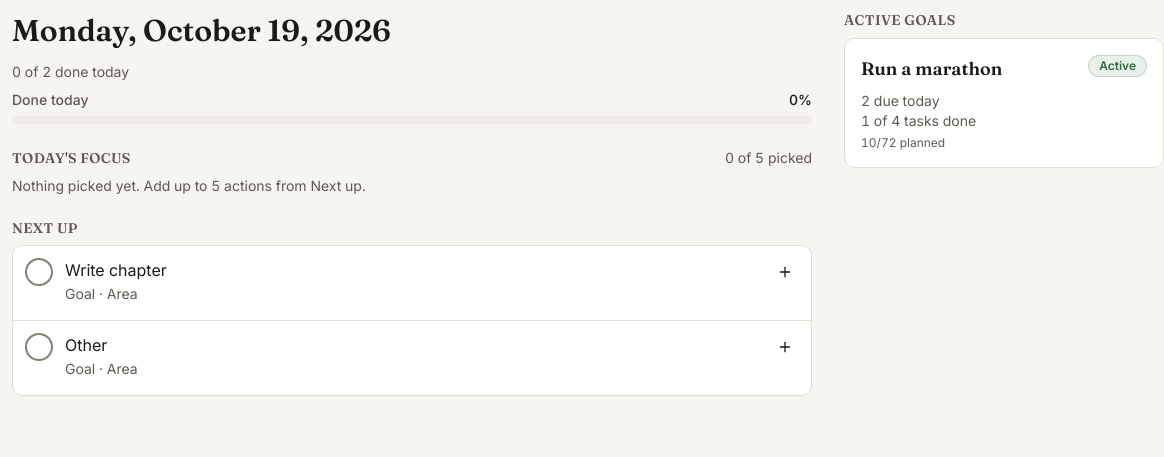
Test: TodayView › rolls back and reports the error on failure
The width and height of the screenshot is (1164, 457).
Click the button named "Complete: Write chapter".
click(39, 272)  # box [17,250,61,294]
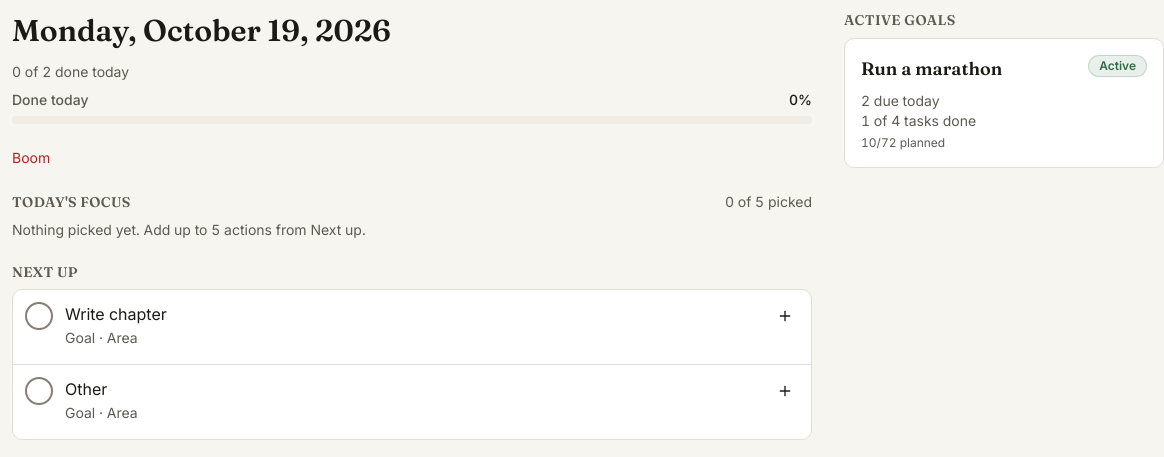
Expected: the text "Write chapter" is shown, [65,304,167,324]
Expected: the message reads "Boom", [12,148,50,166]
